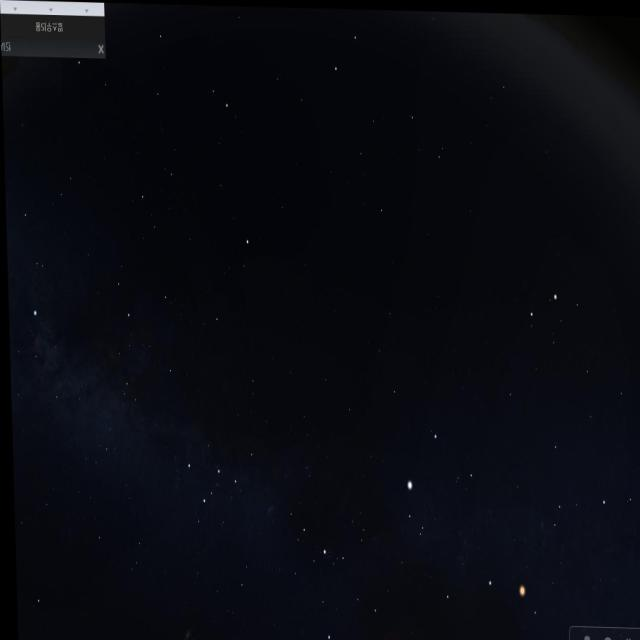cassiopeia: (170, 426, 256, 520)
